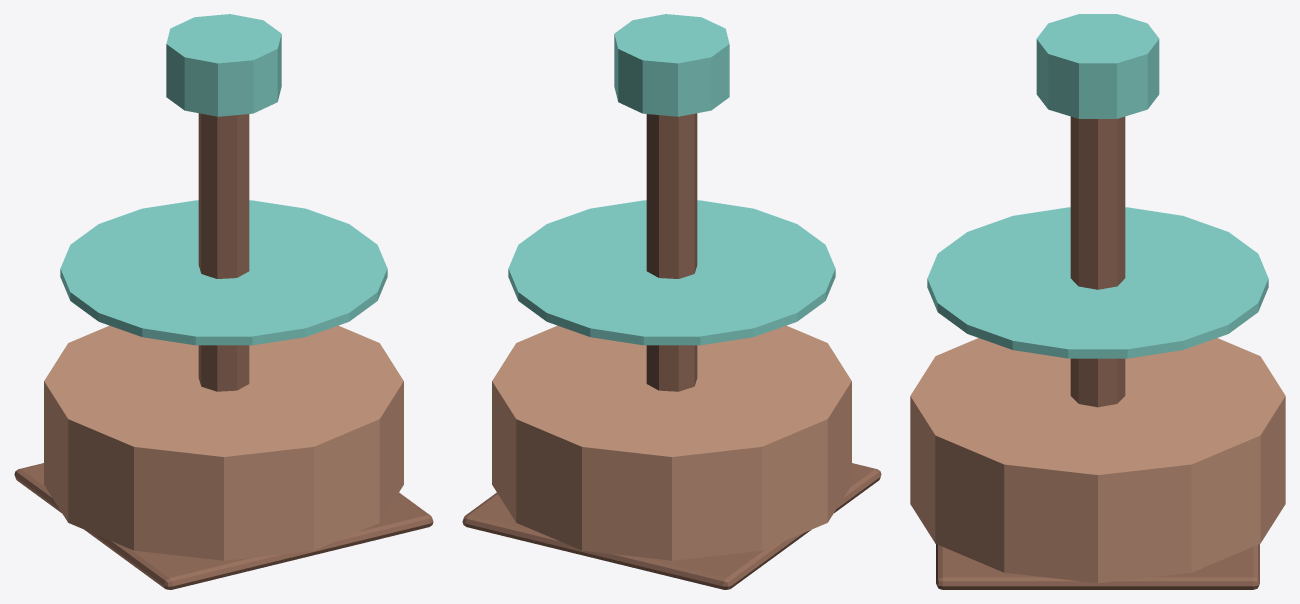
Rendered from sod_veil_projector.glb.
3 renders of one model, left to right at view 1: azimuth 30°, elevation 25°; view 2: azimuth 150°, elevation 25°; view 3: azimuth 270°, elevation 25°, orthographic. The views are drawn at different scales.
Parts seen in each view (by area): view 1: sod_veil_projector; view 2: sod_veil_projector; view 3: sod_veil_projector.
Boxes of the visible parts, x1,y1,x2,y2 form: sod_veil_projector: (14, 14, 433, 589); sod_veil_projector: (462, 14, 881, 589); sod_veil_projector: (910, 14, 1285, 589).
Bounding box in the file's own units: 1.1 × 1.57 × 1.1.
